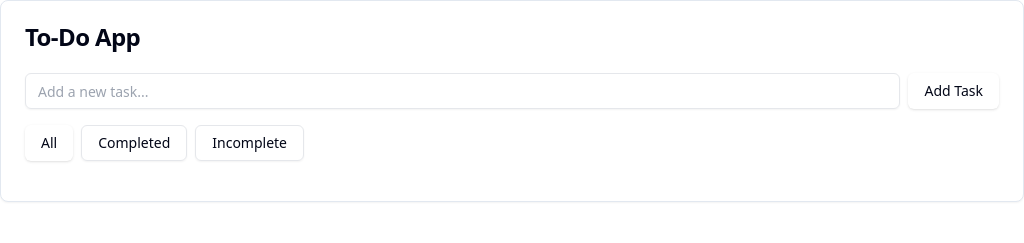
Test: allows users to add a new task
Type "New Task" into the field with placeholder "Add a new task...". click: (463, 91)
box: [25,73,900,109]
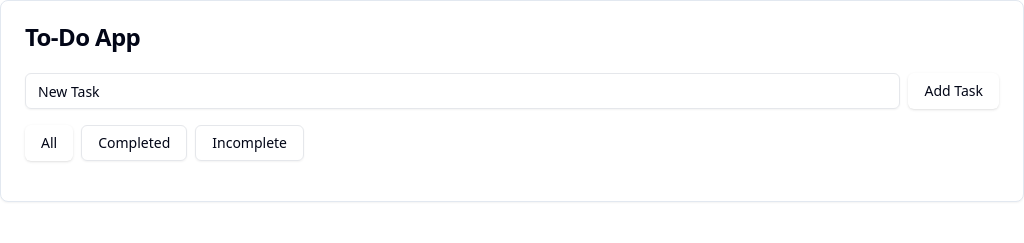
Click the button "Add Task". click: (954, 91)
box: [908,73,999,109]
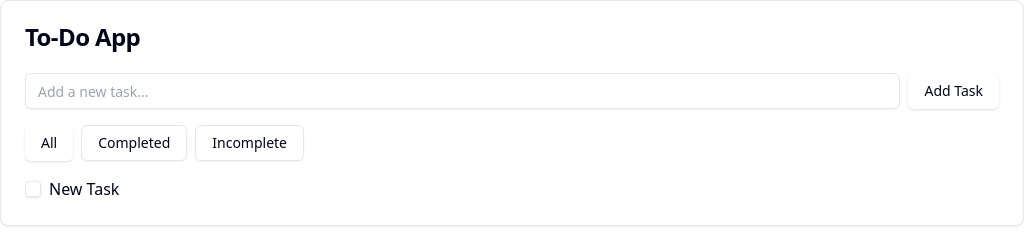
expect the text "New Task" is shown: met, box [49,178,119,200]
